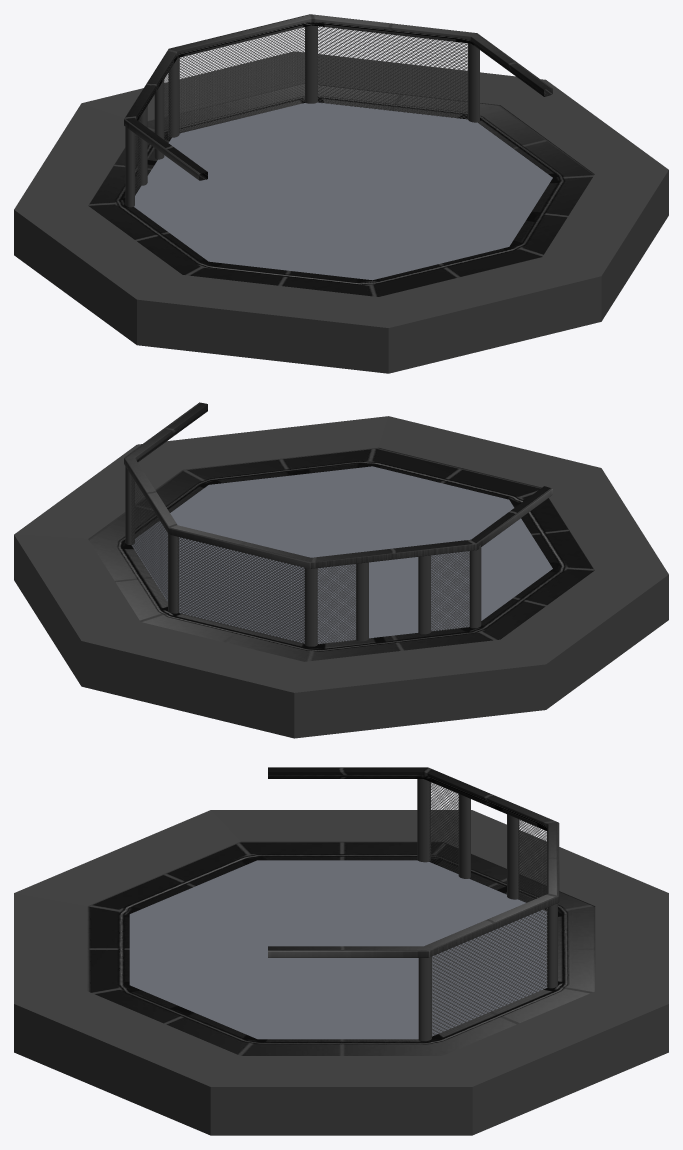
The model's file is a_cage.glb.
The picture shows the model from 3 angles, top to bottom: view 1: azimuth 30°, elevation 25°; view 2: azimuth 150°, elevation 25°; view 3: azimuth 270°, elevation 25°; orthographic projection. The views are drawn at different scales.
Parts seen in each view (by area): view 1: Plane.002, Plane, Plane.001, Cube.004, Cube.002, Plane.011, Cylinder.006, Cylinder.007, Cylinder.005, Cylinder.004, Cylinder.009, Cylinder.008; view 2: Plane.002, Plane, Plane.001, Cube.002, Plane.011, Cube.007, Cube.008, Cube.004, Cylinder.005, Cylinder.008, Cylinder.004, Cylinder.009 (+2 smaller); view 3: Plane.002, Plane, Plane.001, Cube.004, Plane.011, Cube.008, Cube.007, Cylinder.007, Cylinder.004, Cylinder.008, Cylinder.009, Cylinder.006.
Part boxes in pixels (<box>): Plane.002: <box>14,51,668,373</box>; Plane: <box>134,102,552,280</box>; Plane.001: <box>88,83,594,296</box>; Cube.004: <box>317,26,467,119</box>; Cube.002: <box>179,27,305,132</box>; Plane.011: <box>124,14,552,180</box>; Cylinder.006: <box>305,25,317,103</box>; Cylinder.007: <box>468,43,479,122</box>; Cylinder.005: <box>168,55,179,137</box>; Cylinder.004: <box>125,124,134,207</box>; Cylinder.009: <box>154,79,164,159</box>; Cylinder.008: <box>137,106,147,185</box>; Plane.002: <box>14,416,668,738</box>; Plane: <box>131,466,552,643</box>; Plane.001: <box>88,448,594,661</box>; Cube.002: <box>177,537,304,643</box>; Plane.011: <box>124,402,552,568</box>; Cube.007: <box>317,564,356,644</box>; Cube.008: <box>431,551,469,631</box>; Cube.004: <box>131,476,167,602</box>; Cylinder.005: <box>304,568,317,646</box>; Cylinder.008: <box>418,555,430,634</box>; Cylinder.004: <box>469,545,481,628</box>; Cylinder.009: <box>356,562,368,641</box>; Plane.002: <box>14,810,668,1135</box>; Plane: <box>129,860,546,1039</box>; Plane.001: <box>87,842,595,1055</box>; Cube.004: <box>432,907,547,1036</box>; Plane.011: <box>268,767,559,957</box>; Cube.008: <box>429,782,458,873</box>; Cube.007: <box>518,819,546,910</box>; Cylinder.007: <box>418,956,431,1041</box>; Cylinder.004: <box>417,779,430,862</box>; Cylinder.008: <box>458,794,470,878</box>; Cylinder.009: <box>507,814,519,899</box>; Cylinder.006: <box>547,903,557,988</box>.
Size of the model in its own units: 11.04 by 2.57 by 11.04.
Materials: 5 (2 with a texture image).
